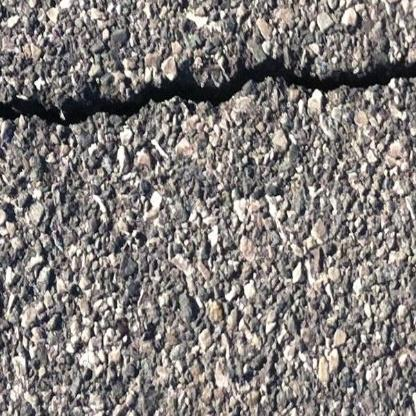Cracks: (0, 45, 416, 132)
